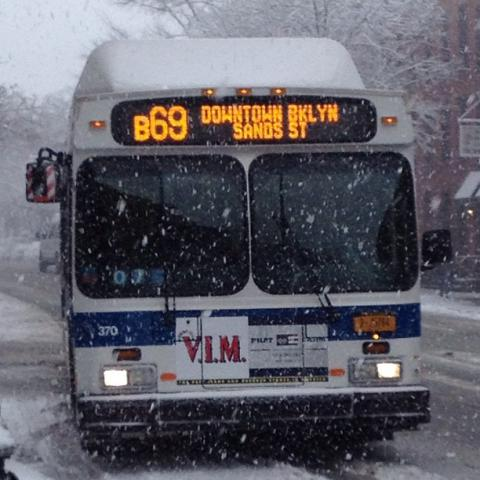bus: (28, 36, 456, 446)
car: (34, 212, 62, 274)
